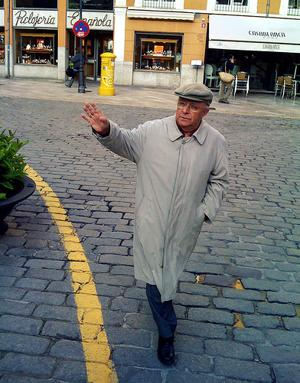person: (83, 85, 230, 368)
